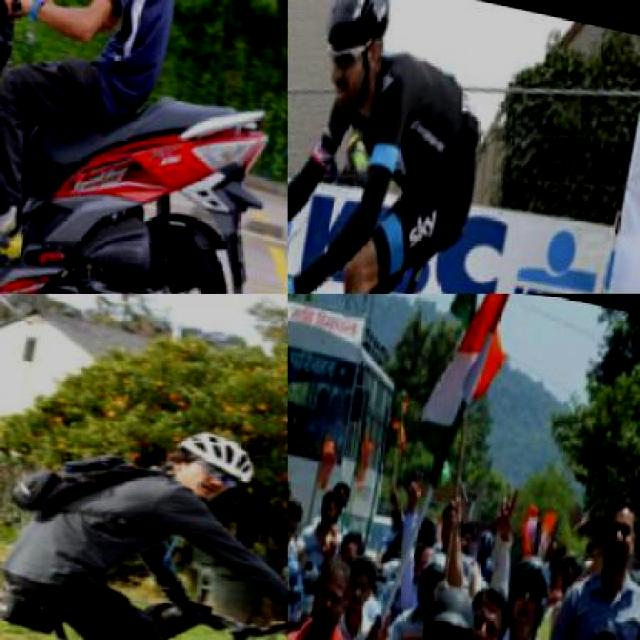With Helmet: (300, 0, 408, 120), (154, 415, 272, 503), (502, 541, 566, 639), (417, 571, 486, 638)
Without Helmet: (310, 550, 358, 636), (464, 568, 518, 638), (596, 490, 638, 576), (288, 492, 310, 560), (578, 617, 631, 638)
